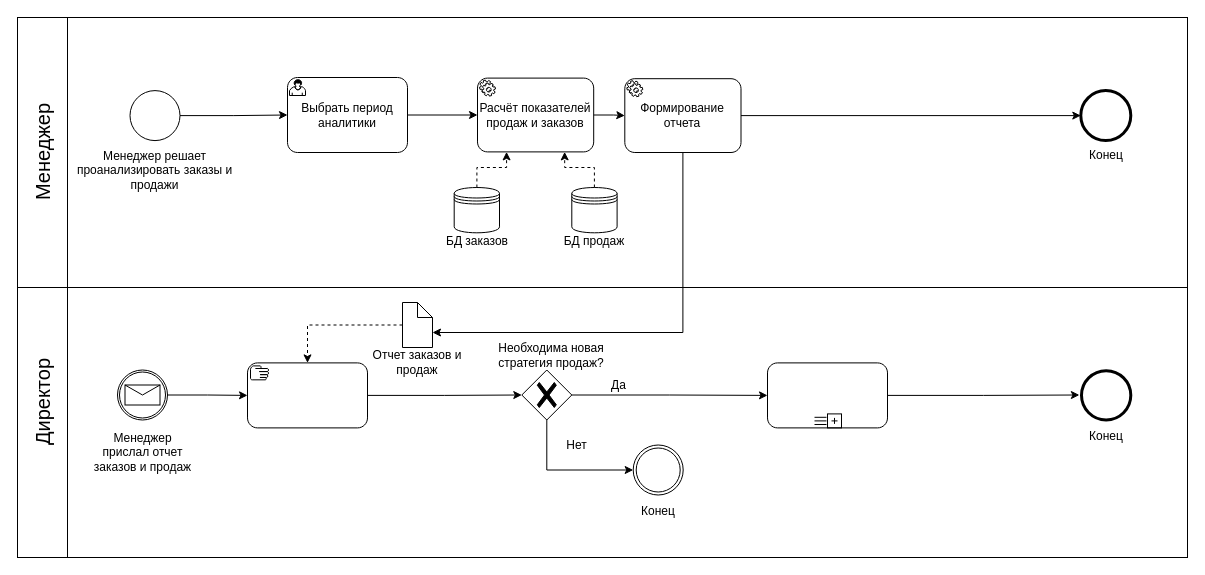
Some shapes in this 1205 by 575 pixel diagram are drawn without their labels. The shapes that lost their labels are listed below. From the top down, each one's box as (x1, y1, x2, y2) in pixels, then its label:
(246, 362, 368, 428): Анализ отчета
(766, 362, 888, 428): Изменения стратегии продаж
